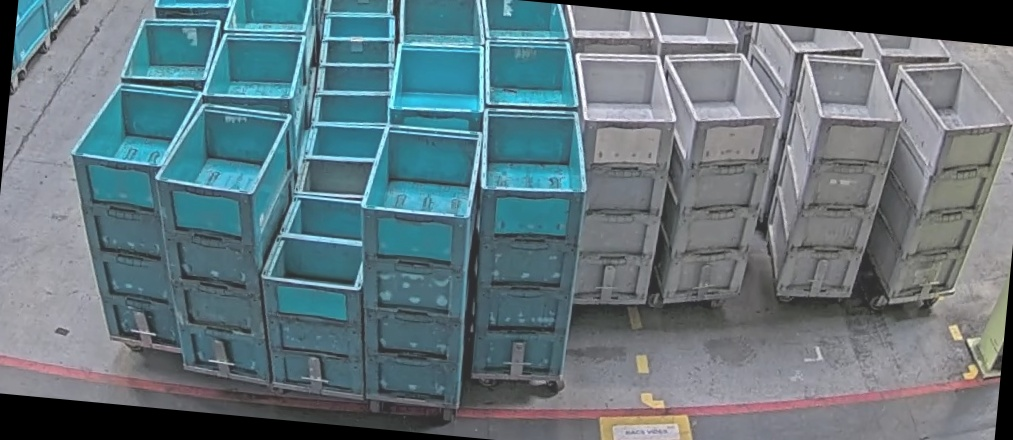4G: (640, 46, 788, 310), (862, 52, 1013, 309), (759, 50, 908, 303), (551, 47, 684, 309)
B4: (137, 97, 304, 385), (342, 119, 488, 407), (52, 79, 205, 349), (457, 104, 594, 383)
B8: (250, 190, 384, 396)
